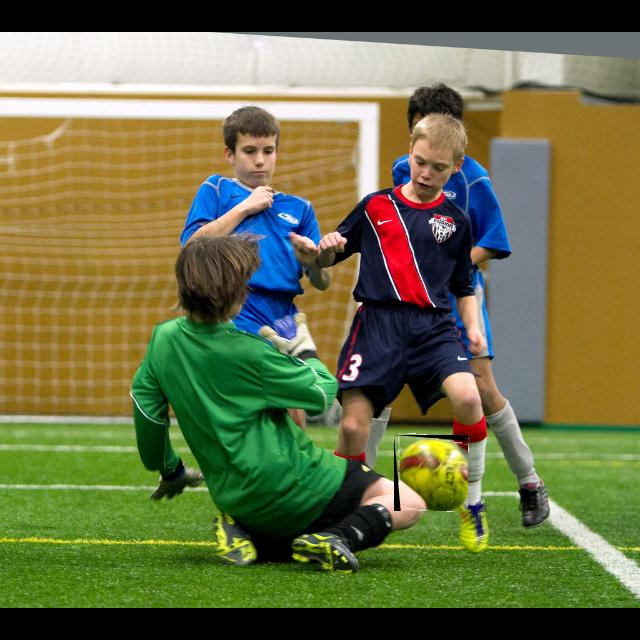Football: (394, 435, 468, 511)
